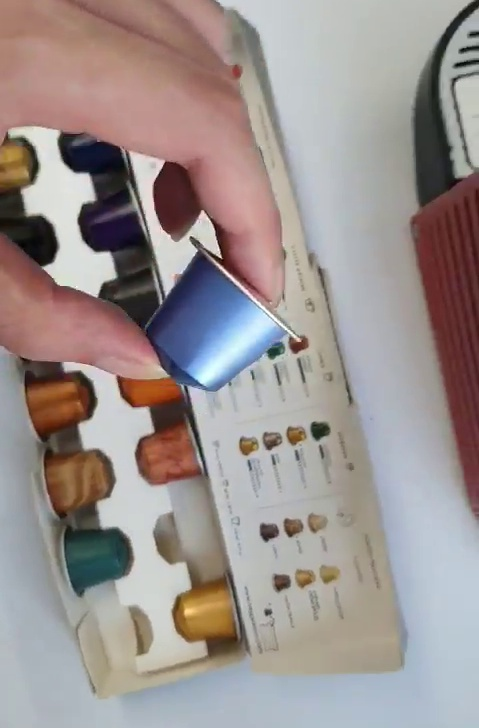capsule_7: (144, 235, 305, 390)
